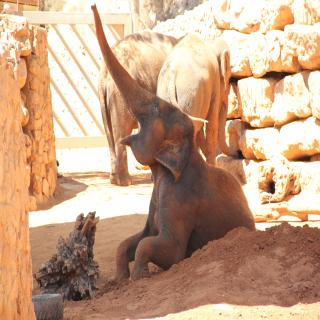Elephant: (80, 0, 275, 278)
